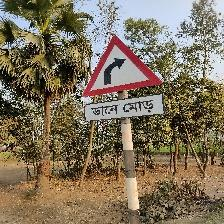Right-turn: (81, 34, 166, 123)
